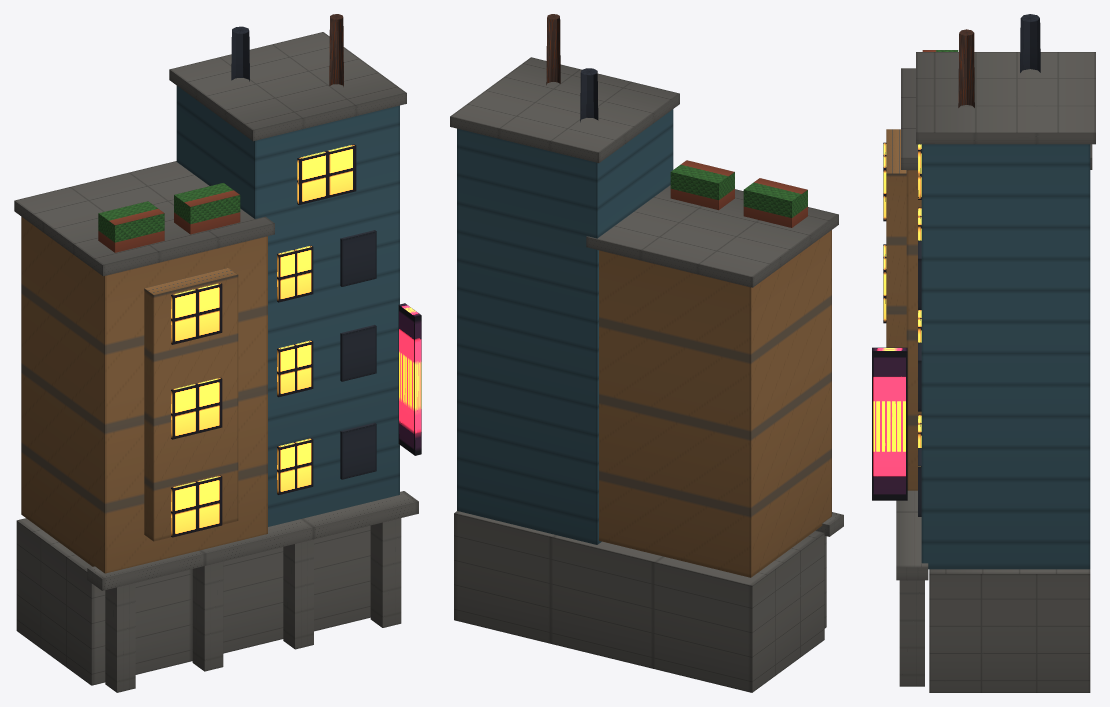
Rendered from ashblock_tenement_corner_setback.glb.
3 renders of one model, left to right at view 1: azimuth 30°, elevation 25°; view 2: azimuth 150°, elevation 25°; view 3: azimuth 270°, elevation 25°, orthographic. The views are drawn at different scales.
Visible parts, largest first — view 1: ashblock_tenement_corner_setback; view 2: ashblock_tenement_corner_setback; view 3: ashblock_tenement_corner_setback.
Part boxes in pixels (x1,y1,x2,y2): ashblock_tenement_corner_setback: [14, 14, 421, 692]; ashblock_tenement_corner_setback: [450, 14, 843, 692]; ashblock_tenement_corner_setback: [872, 14, 1095, 692].
Size of the model in its own units: 10.5 by 18.75 by 5.98.
Materials: 1 (1 with a texture image).
